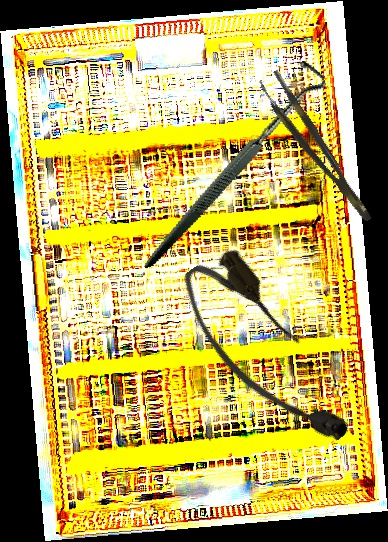Cannula: (167, 240, 363, 469)
Hook Surgical: (96, 56, 365, 269)
Tissue Forceps: (256, 69, 374, 231)
